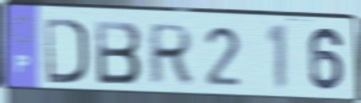1: (263, 22, 289, 95)
2: (203, 25, 243, 89)
6: (307, 26, 346, 94)
B: (93, 18, 144, 87)
D: (43, 15, 90, 86)
R: (146, 21, 196, 87)
